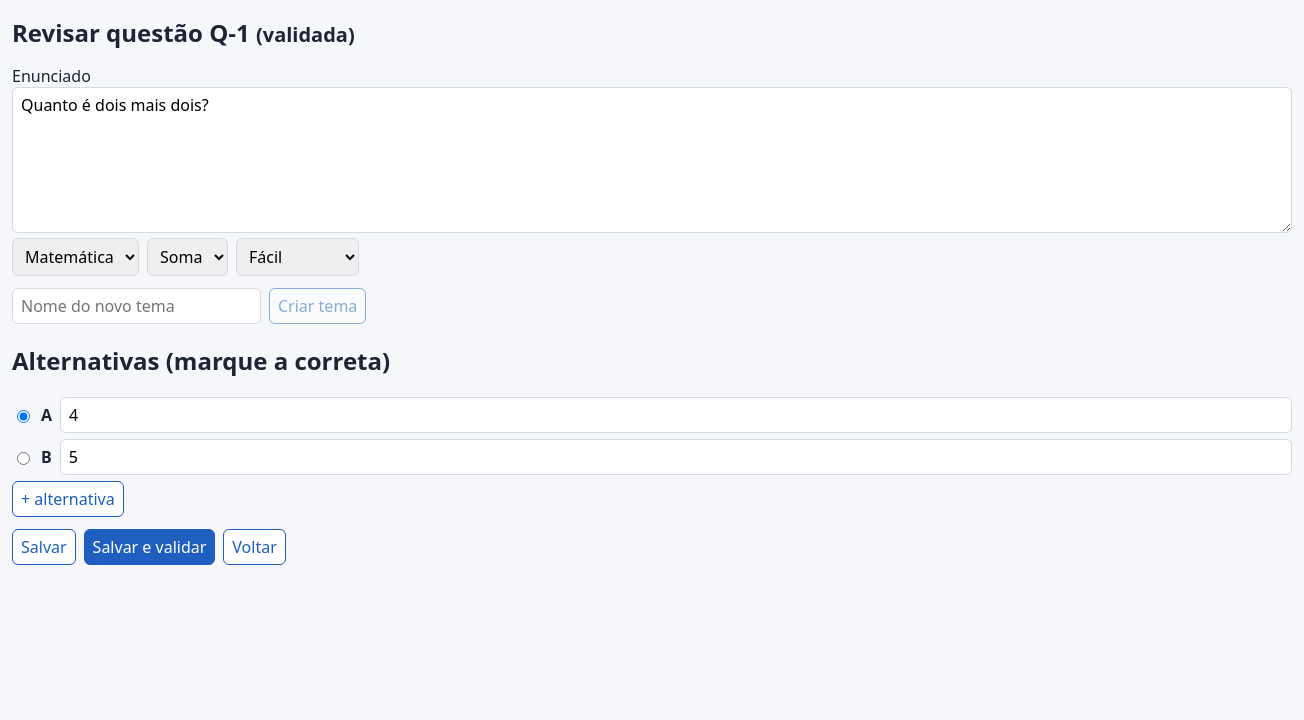
it: Telas React › revisão carrega dados e salva alterações
Replace the text in the text box labelled "Enunciado" with "Novo enunciado" at (652, 160), box top-left (12, 87), bottom-right (1292, 233)
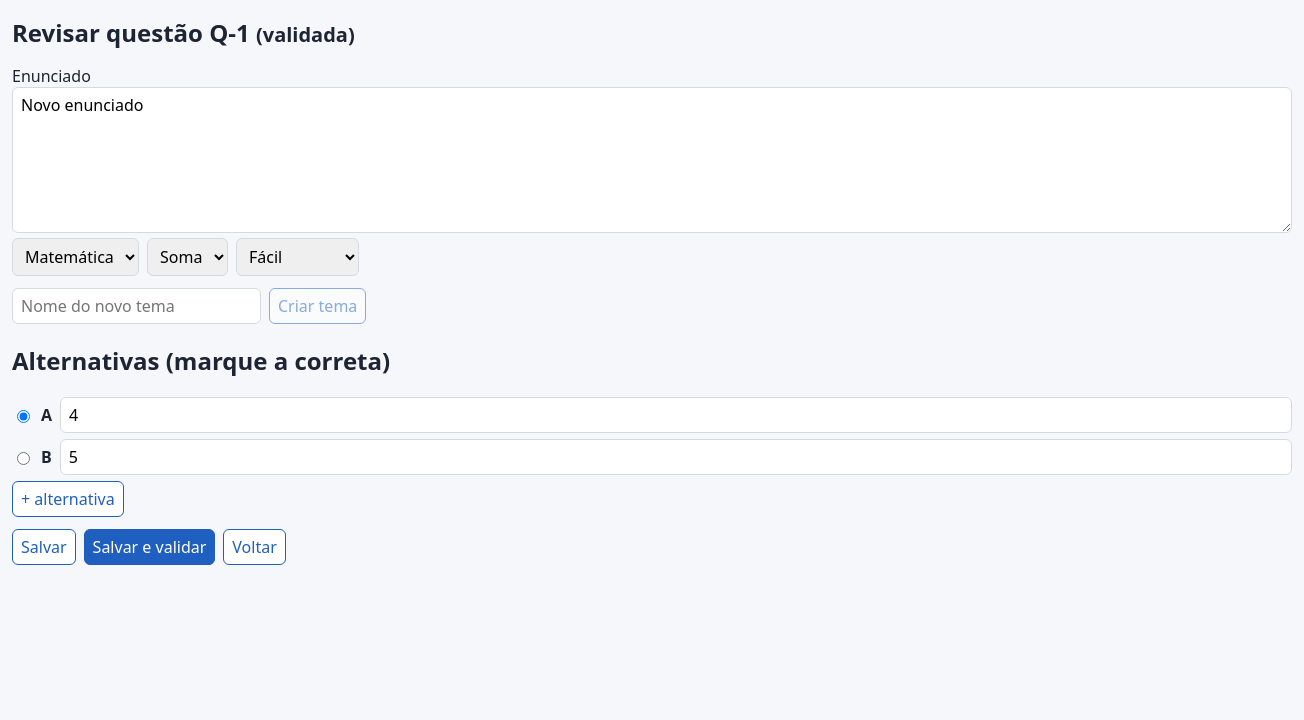
Click the button "Salvar" at (44, 547), box top-left (12, 529), bottom-right (76, 565)
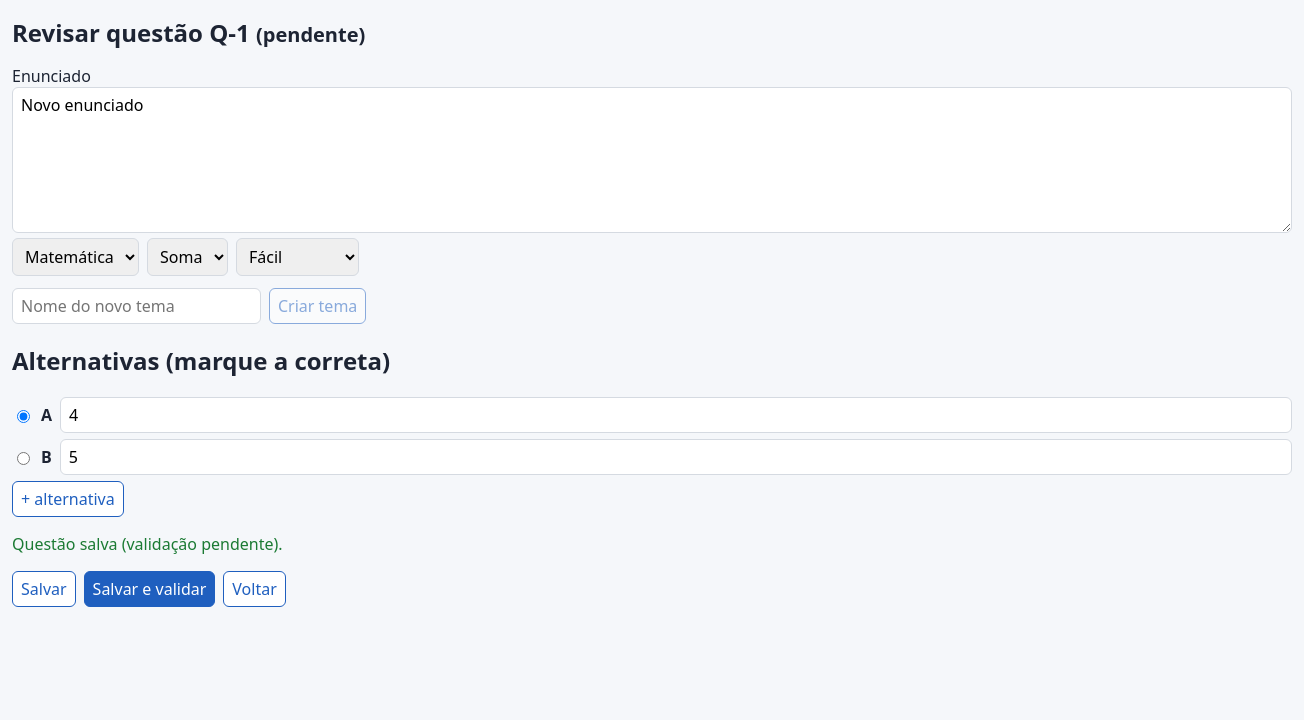
Now the text "Questão salva (validação pendente)." is shown, box top-left (12, 533), bottom-right (283, 555)
